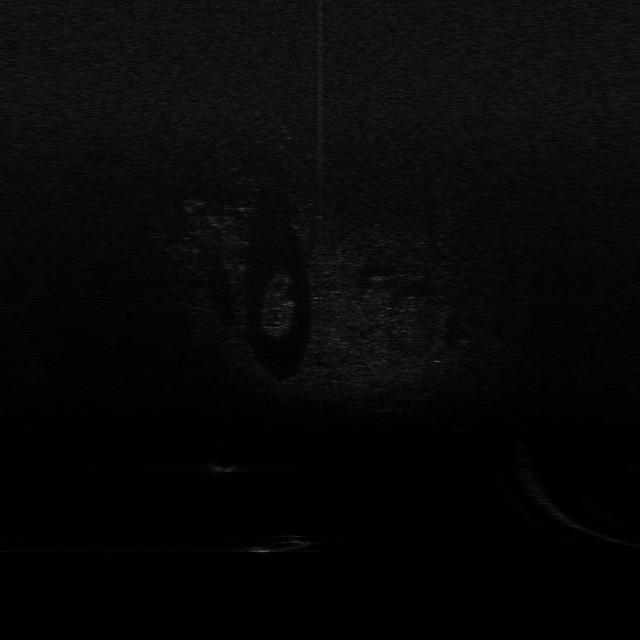square cage: (203, 459, 238, 476)
tyre: (246, 535, 316, 555)
